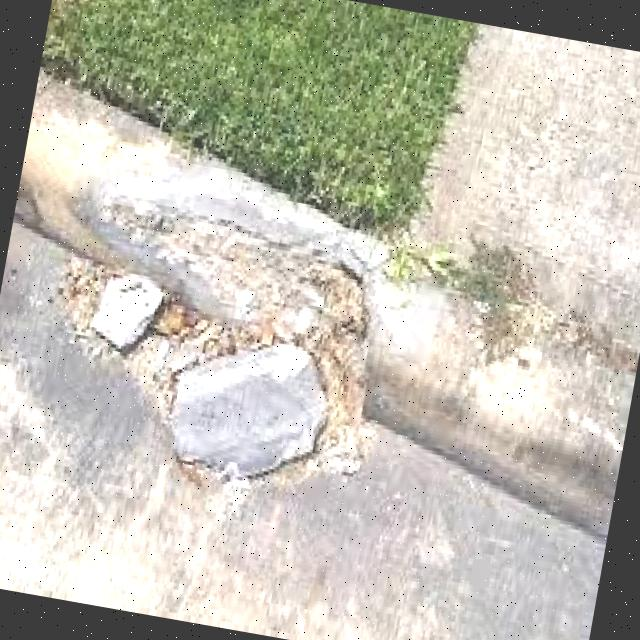curb: (19, 84, 402, 396), (322, 245, 631, 544)
